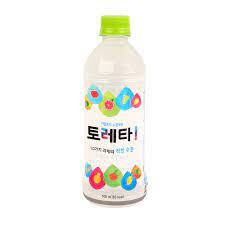toreta: (80, 12, 150, 209)
